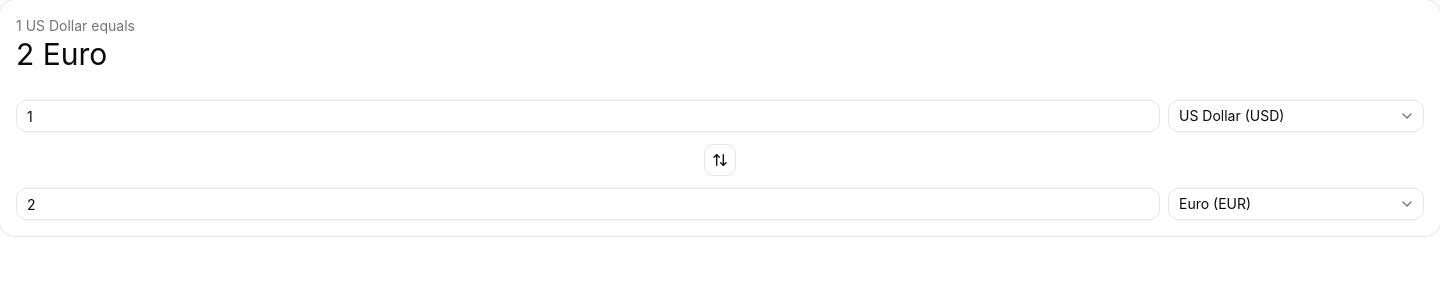
Test case: CurrencyConverter › converts to the picked currency
The width and height of the screenshot is (1440, 295).
Click the dropdown named "To currency": (1296, 204) [1168,188,1424,220]
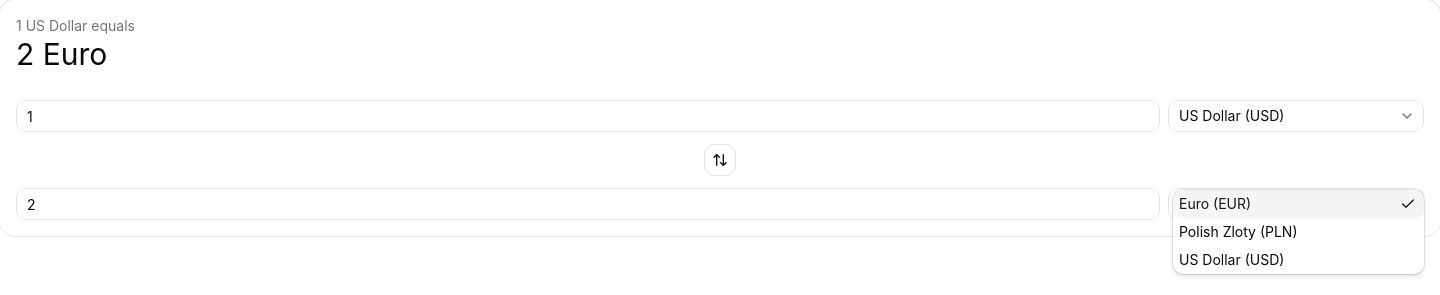
Check: the number of options is 3
Click the option "Polish Zloty (PLN)": (1238, 232) [1179,223,1298,240]
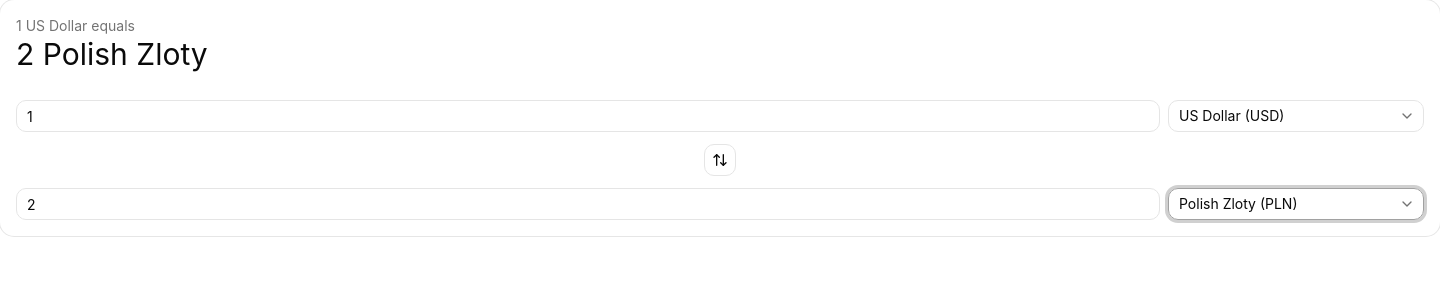
Check: the dropdown named "To currency" reads "Polish Zloty (PLN)", box [1168,188,1424,220]
